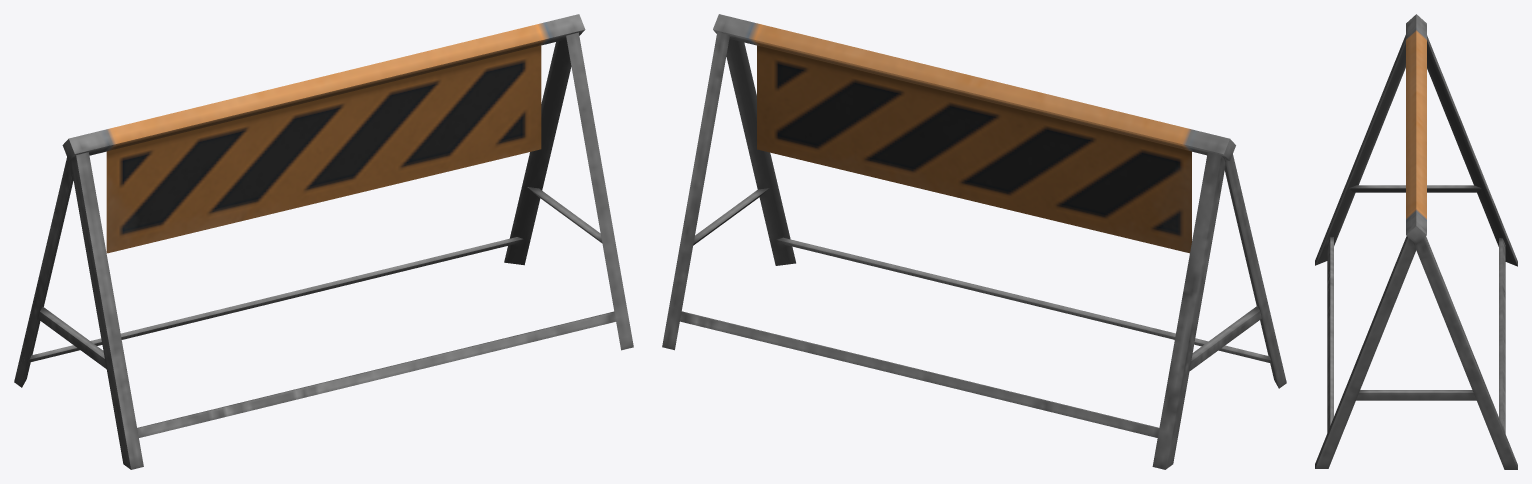
File: jctlowStreetStandA.fbx
3 renders of one model, left to right at view 1: azimuth 30°, elevation 25°; view 2: azimuth 150°, elevation 25°; view 3: azimuth 270°, elevation 25°, orthographic. The views are drawn at different scales.
Visible parts, largest first — view 1: jctlowStreetStandA; view 2: jctlowStreetStandA; view 3: jctlowStreetStandA.
Boxes of the visible parts, x1,y1,x2,y2 form: jctlowStreetStandA: (14, 14, 633, 469); jctlowStreetStandA: (662, 14, 1286, 469); jctlowStreetStandA: (1315, 14, 1517, 469).
Size of the model in its own units: 120 by 64.79 by 48.54.
1 material, 1 textured.
